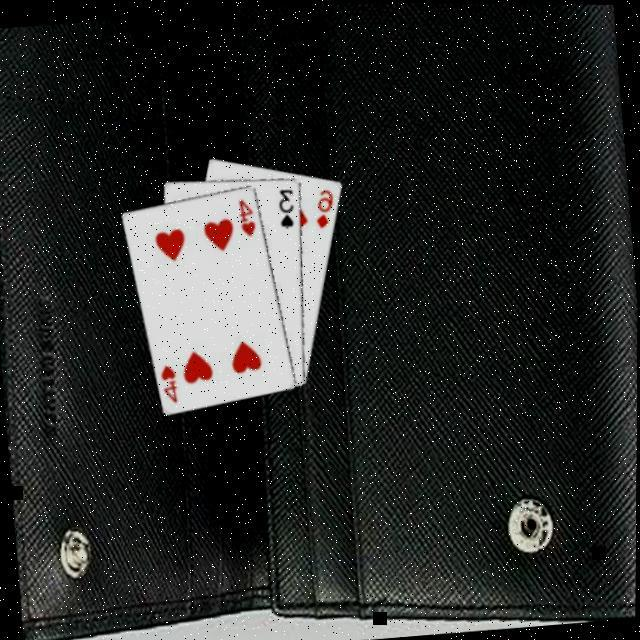3S: (273, 184, 297, 232)
4H: (233, 194, 258, 240), (155, 361, 180, 407)
6D: (309, 185, 337, 231)
